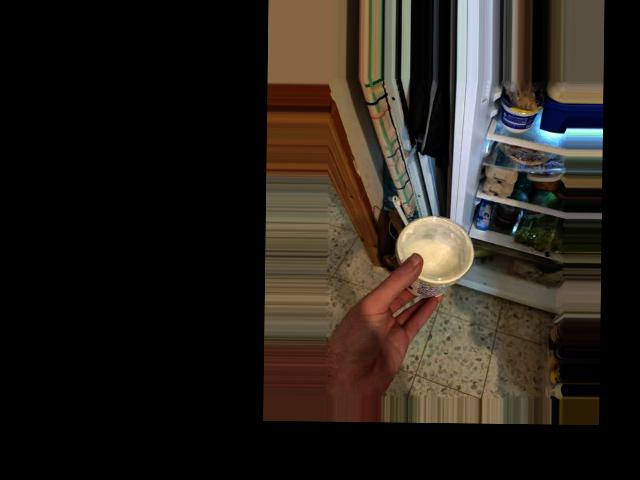cotage: (391, 212, 460, 298)
